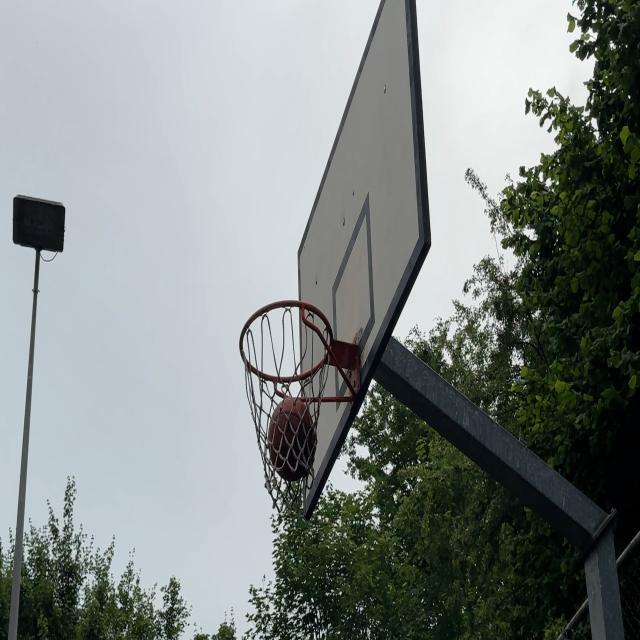Goal: (268, 402, 316, 479)
